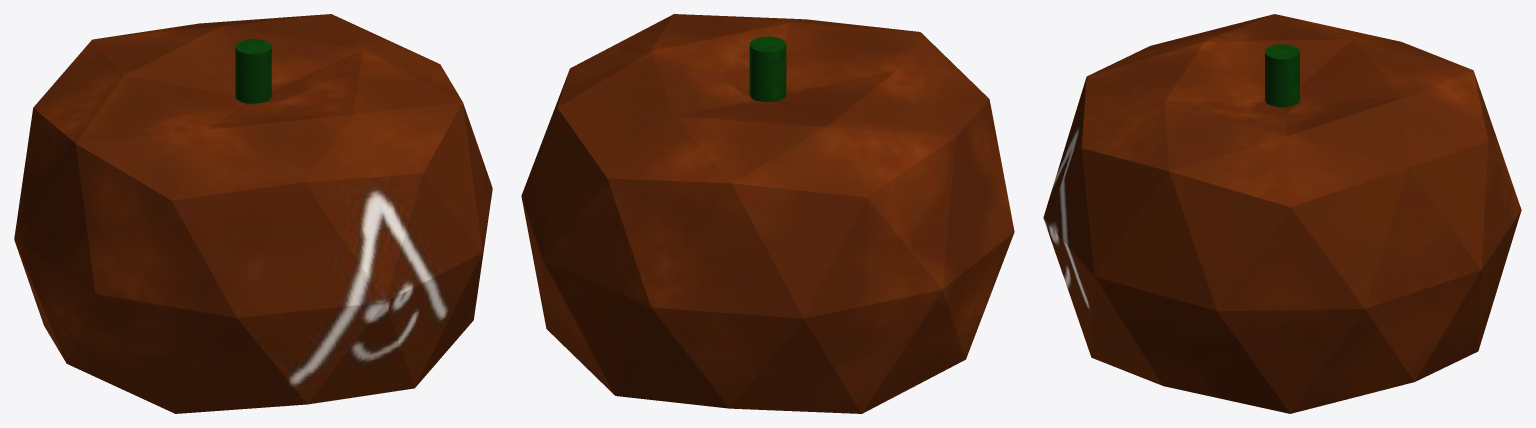
Rendered from alt-pumkin2.dae.
3 renders of one model, left to right at view 1: azimuth 30°, elevation 25°; view 2: azimuth 150°, elevation 25°; view 3: azimuth 270°, elevation 25°, orthographic. The views are drawn at different scales.
Visible parts, largest first — view 1: Icosphere; view 2: Icosphere; view 3: Icosphere.
Boxes of the visible parts, x1=… form: Icosphere: x1=14, y1=14, x2=492, y2=413; Icosphere: x1=521, y1=14, x2=1014, y2=413; Icosphere: x1=1043, y1=14, x2=1521, y2=413.
Bounding box in the file's own units: 0.2589 × 0.2689 × 0.1858.
Materials: 1 (1 with a texture image).
